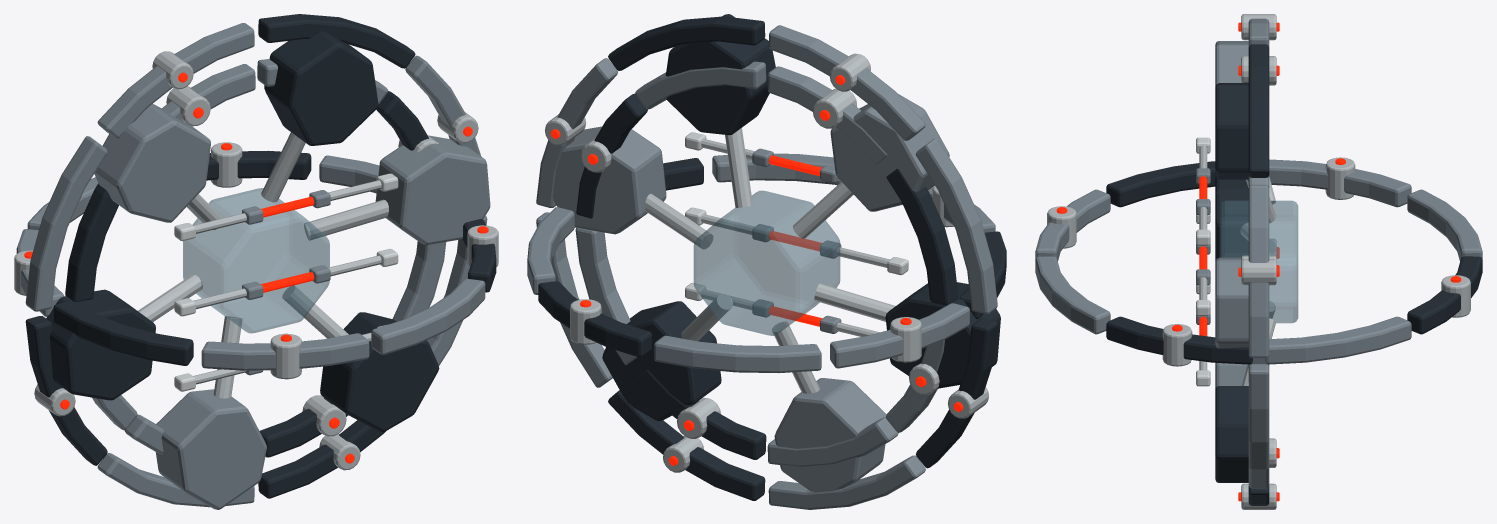
Rendered from orbit-operate-balanced.glb.
The picture shows the model from 3 angles, left to right: view 1: azimuth 30°, elevation 25°; view 2: azimuth 150°, elevation 25°; view 3: azimuth 270°, elevation 25°; orthographic projection. The views are drawn at different scales.
Parts seen in each view (by area): view 1: Operate_MID_Processor, Operate_MID_ComputeBank_04, Operate_MID_ComputeBank_01, Operate_MID_ComputeBank_02, Operate_MID_ComputeBank_00, Operate_MID_ComputeBank_05, Operate_MID_ComputeBank_03, Operate_MID_Gimbal_2_RailSector_05, Operate_MID_Gimbal_2_RailSector_04, Operate_MID_Gimbal_1_RailSector_03, Operate_MID_Gimbal_1_RailSector_02, Operate_MID_Gimbal_2_RailSector_03 (+34 smaller); view 2: Operate_MID_Processor, Operate_MID_ComputeBank_04, Operate_MID_ComputeBank_00, Operate_MID_ComputeBank_01, Operate_MID_ComputeBank_02, Operate_MID_ComputeBank_05, Operate_MID_Gimbal_2_RailSector_05, Operate_MID_Gimbal_1_RailSector_05, Operate_MID_Gimbal_2_RailSector_04, Operate_MID_Gimbal_2_RailSector_00, Operate_MID_Gimbal_2_RailSector_03, Operate_MID_Gimbal_0_RailSector_03 (+34 smaller); view 3: Operate_MID_Processor, Operate_MID_Gimbal_1_RailSector_07, Operate_MID_Gimbal_2_RailSector_02, Operate_MID_ComputeBank_05, Operate_MID_ComputeBank_01, Operate_MID_Gimbal_1_RailSector_04, Operate_MID_Gimbal_2_RailSector_03, Operate_MID_Gimbal_1_RailSector_00, Operate_MID_ComputeBank_00, Operate_MID_Gimbal_2_RailSector_01, Operate_MID_Gimbal_1_RailSector_01, Operate_MID_Gimbal_1_RailSector_03 (+14 smaller).
Part boxes in pixels (left/top/right/bottom): Operate_MID_Processor: left=183, top=188, right=329, bottom=333; Operate_MID_ComputeBank_04: left=155, top=389, right=266, bottom=509; Operate_MID_ComputeBank_01: left=264, top=31, right=378, bottom=145; Operate_MID_ComputeBank_02: left=94, top=104, right=210, bottom=222; Operate_MID_ComputeBank_00: left=375, top=135, right=490, bottom=244; Operate_MID_ComputeBank_05: left=320, top=312, right=439, bottom=431; Operate_MID_ComputeBank_03: left=46, top=289, right=155, bottom=400; Operate_MID_Gimbal_2_RailSector_05: left=25, top=136, right=107, bottom=311; Operate_MID_Gimbal_2_RailSector_04: left=97, top=23, right=254, bottom=138; Operate_MID_Gimbal_1_RailSector_03: left=53, top=300, right=193, bottom=365; Operate_MID_Gimbal_1_RailSector_02: left=201, top=333, right=369, bottom=370; Operate_MID_Gimbal_2_RailSector_03: left=258, top=14, right=415, bottom=68; Operate_MID_Processor: left=693, top=190, right=840, bottom=335; Operate_MID_ComputeBank_04: left=774, top=378, right=886, bottom=492; Operate_MID_ComputeBank_00: left=553, top=126, right=666, bottom=234; Operate_MID_ComputeBank_01: left=665, top=14, right=775, bottom=135; Operate_MID_ComputeBank_02: left=830, top=94, right=949, bottom=211; Operate_MID_ComputeBank_05: left=602, top=301, right=721, bottom=421; Operate_MID_Gimbal_2_RailSector_05: left=916, top=138, right=997, bottom=313; Operate_MID_Gimbal_1_RailSector_05: left=654, top=335, right=821, bottom=372; Operate_MID_Gimbal_2_RailSector_04: left=768, top=25, right=925, bottom=140; Operate_MID_Gimbal_2_RailSector_00: left=608, top=390, right=765, bottom=500; Operate_MID_Gimbal_2_RailSector_03: left=608, top=16, right=765, bottom=70; Operate_MID_Gimbal_0_RailSector_03: left=886, top=168, right=958, bottom=305; Operate_MID_Processor: left=1219, top=200, right=1298, bottom=323; Operate_MID_Gimbal_1_RailSector_07: left=1265, top=316, right=1411, bottom=364; Operate_MID_Gimbal_2_RailSector_02: left=1248, top=185, right=1269, bottom=357; Operate_MID_ComputeBank_05: left=1215, top=386, right=1248, bottom=482; Operate_MID_ComputeBank_01: left=1215, top=83, right=1248, bottom=179; Operate_MID_Gimbal_1_RailSector_04: left=1269, top=159, right=1411, bottom=207; Operate_MID_Gimbal_2_RailSector_03: left=1248, top=44, right=1269, bottom=177; Operate_MID_Gimbal_1_RailSector_00: left=1106, top=316, right=1252, bottom=364; Operate_MID_ComputeBank_00: left=1215, top=257, right=1248, bottom=348; Operate_MID_Gimbal_2_RailSector_01: left=1248, top=364, right=1269, bottom=488; Operate_MID_Gimbal_1_RailSector_01: left=1035, top=256, right=1110, bottom=334; Operate_MID_Gimbal_1_RailSector_03: left=1106, top=161, right=1215, bottom=207.
Size of the model in its own units: 8.06 by 8.06 by 7.38.
